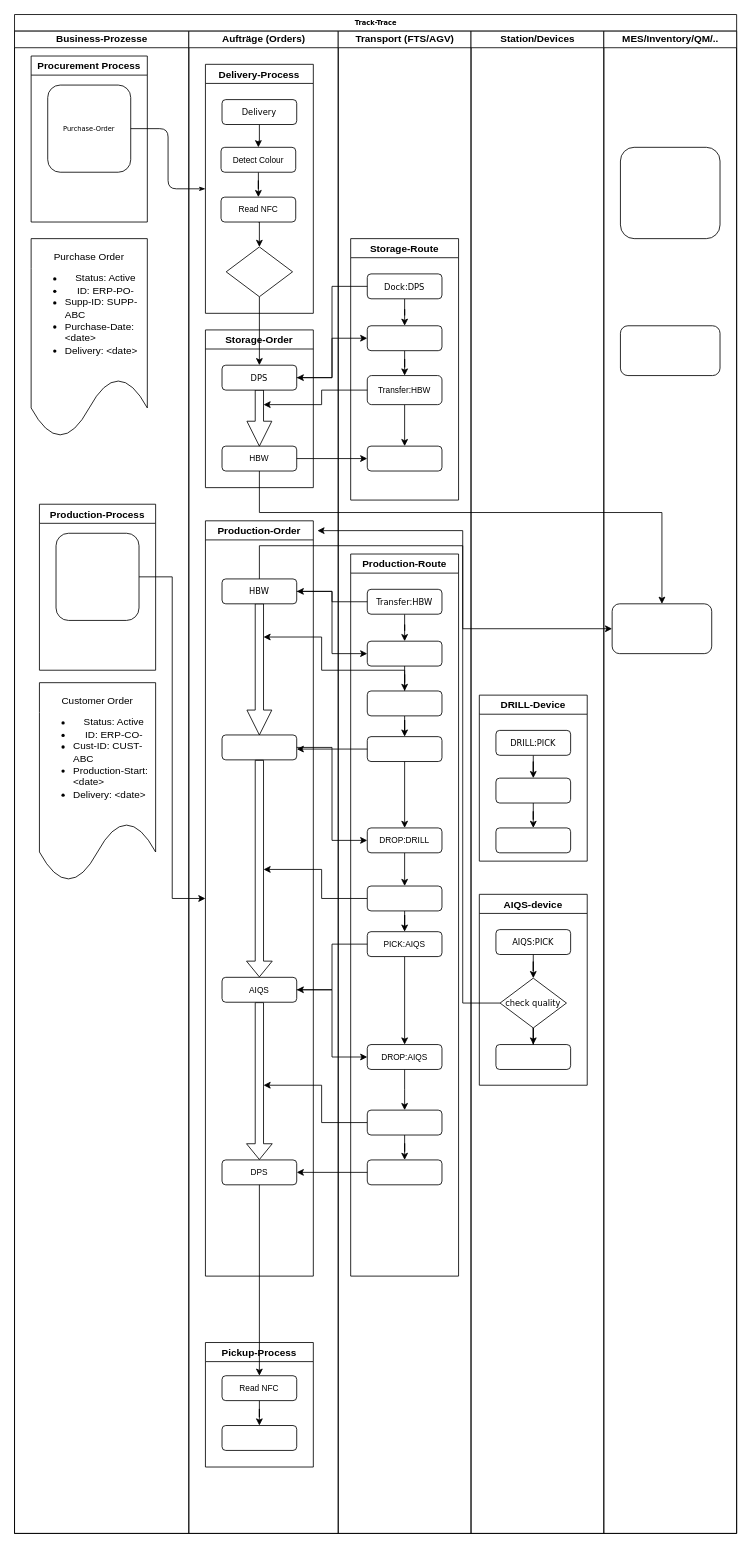
Some shapes in this 751 by 1548 pixel diagram are drawn without their labels. Here are the shapes that lost their labels. From the top down, the centre of each, then its label:
the point at 670,192: MES -> Fertigungs-Aufträge -> Machine-Data-Parameters
the point at 259,271: check inventory
the point at 404,338: DROP:DPS
the point at 670,350: QM
the point at 404,458: PICK:HBW
the point at 97,576: Customer-Order
the point at 661,628: Update Inventory
the point at 404,653: DROP:HBW
the point at 404,703: Transfer:DRILL
the point at 259,747: DRILL
the point at 404,749: PICK:DRILL
the point at 533,790: DRILL:Process
the point at 533,840: DRILL:DROP
the point at 404,898: Transfer:AIQS
the point at 533,1056: AIQS:DRO P
the point at 404,1122: Transfer:DPS
the point at 404,1172: PICK:DPS
the point at 259,1437: External Logistic
